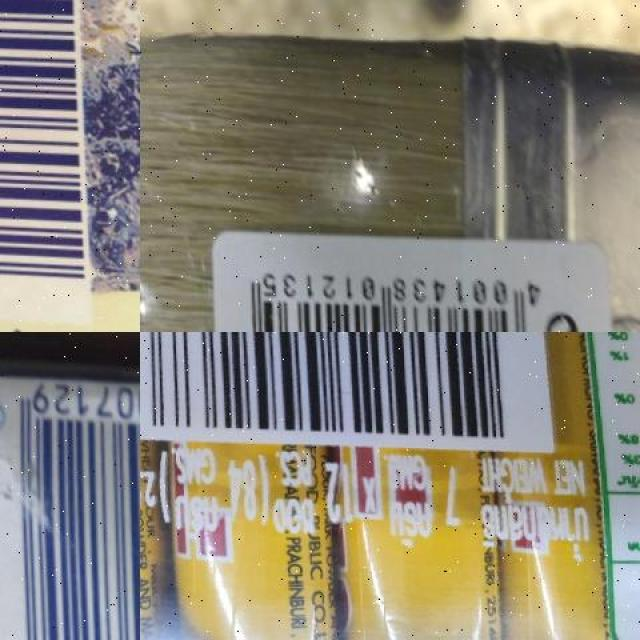Barcode: (140, 332, 544, 445), (208, 229, 608, 332), (0, 376, 140, 640), (0, 0, 87, 320)
